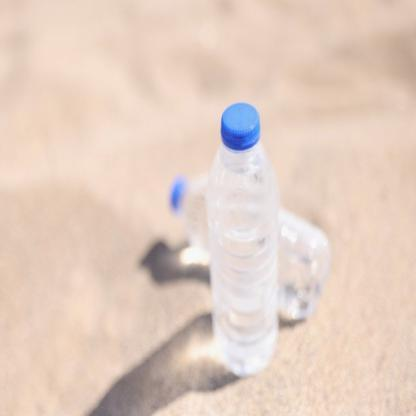bottle: (162, 149, 336, 308), (200, 84, 283, 392)
